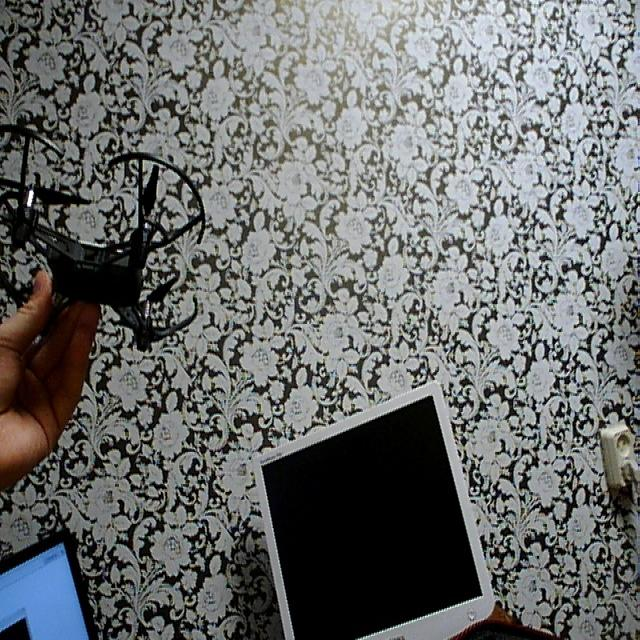drone: (0, 95, 213, 366)
